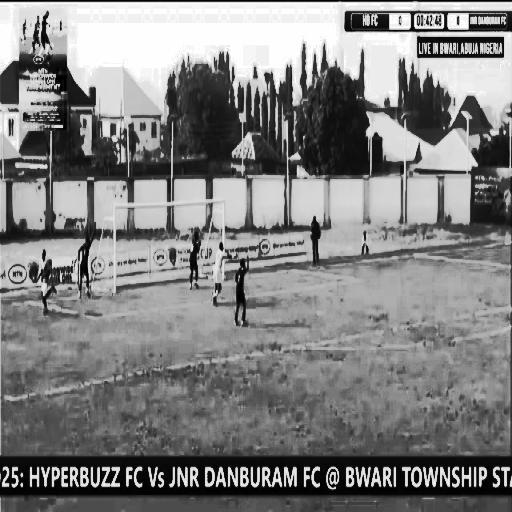keeper2: (210, 230, 228, 319)
team1: (31, 240, 62, 317)
team2: (232, 257, 254, 341), (74, 226, 94, 298), (184, 222, 203, 295)
